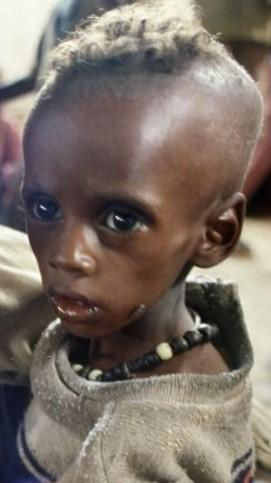Stunting: (0, 34, 240, 343)
